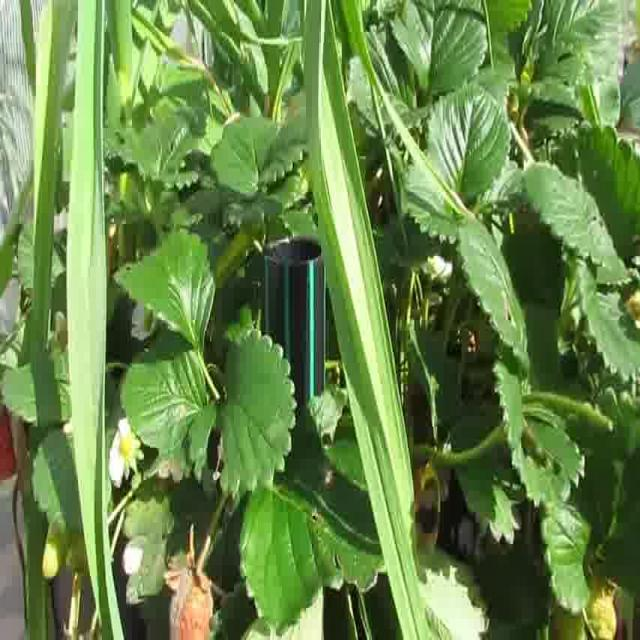Moho gris: (158, 557, 216, 640)
